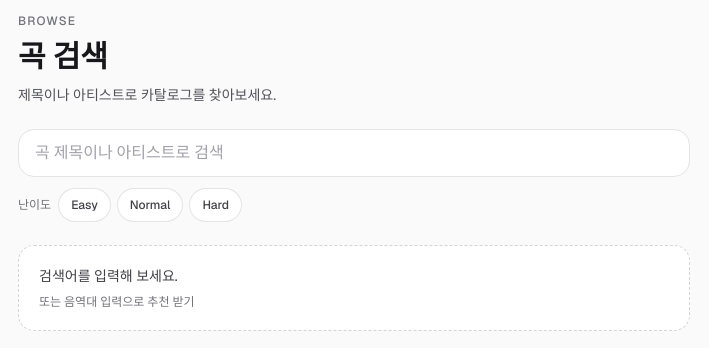
Test: SongSearchPage › live region (#470) › ApiError 발생 시 에러 영역이 role='alert'로 노출된다
In the search field with placeholder "곡 제목이나 아티스트로 검색": (354, 153) [18,129,690,177], type "boom"
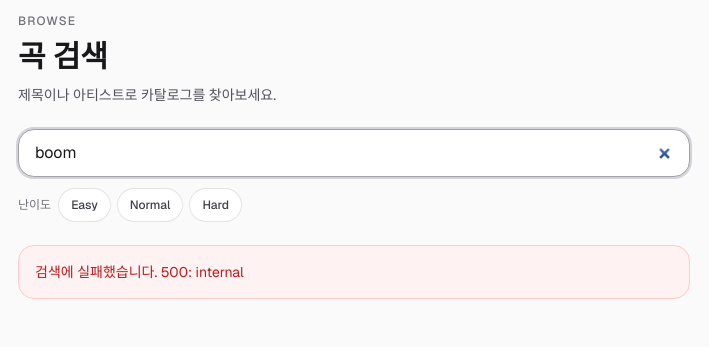
expect the message shows "검색에 실패했습니다": met, box [35,263,157,281]
expect the message shows "500": met, box [161,263,244,281]
